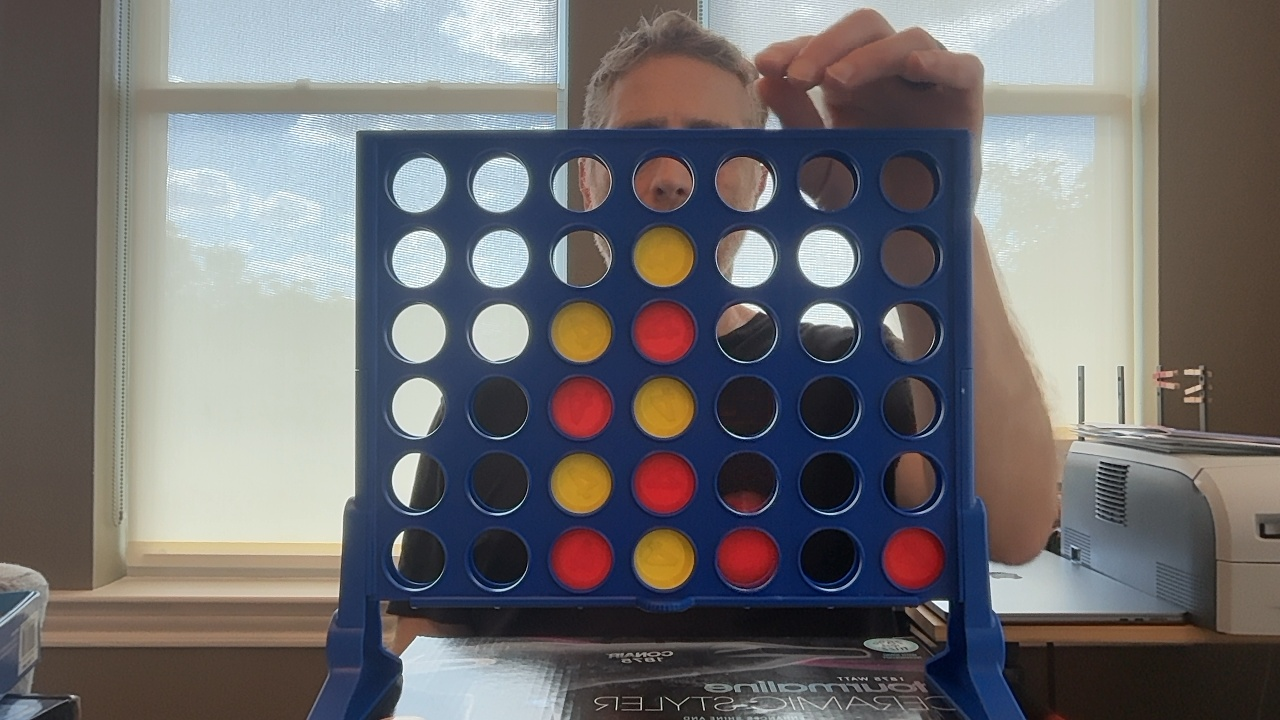red piece: (550, 528, 612, 591), (633, 300, 695, 363), (883, 527, 945, 590), (633, 452, 695, 514), (551, 376, 612, 438), (716, 528, 778, 589)
yellow piece: (633, 376, 694, 438), (633, 528, 694, 590), (550, 453, 611, 514), (633, 226, 694, 286), (551, 301, 611, 362)
